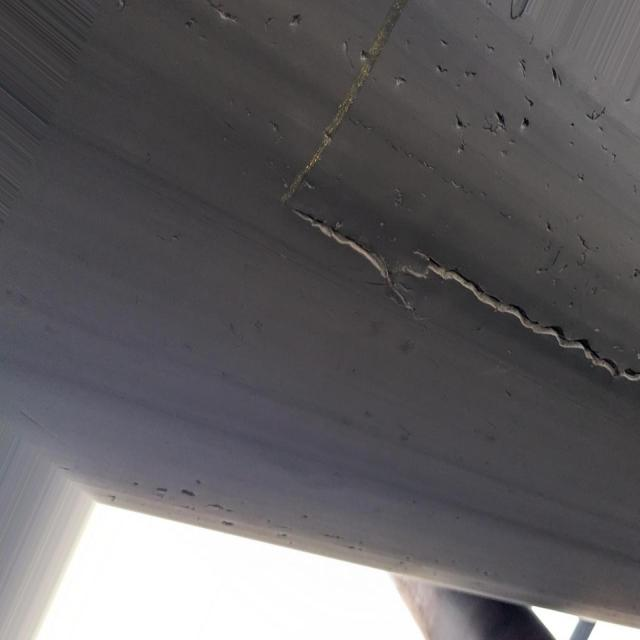Puncture: (444, 34, 575, 151)
Roller: (392, 580, 561, 640)
Tear: (276, 2, 640, 398)
